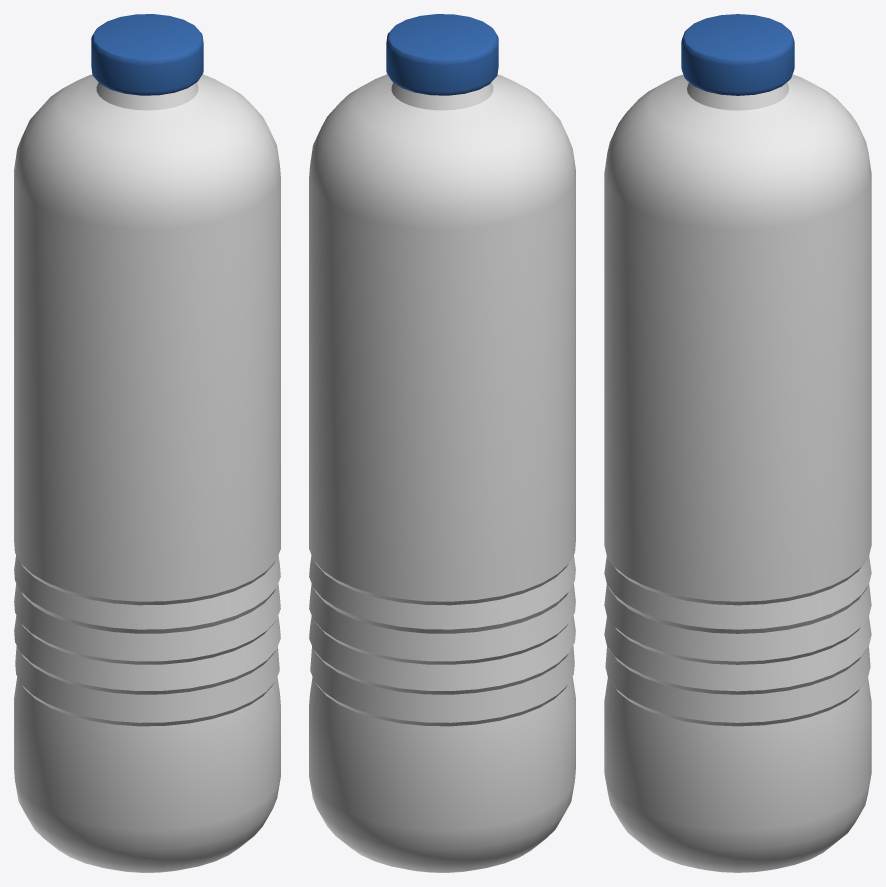
Rendered from bottle_full.fbx.
3 renders of one model, left to right at view 1: azimuth 30°, elevation 25°; view 2: azimuth 150°, elevation 25°; view 3: azimuth 270°, elevation 25°, orthographic.
Parts seen in each view (by area): view 1: water; view 2: water; view 3: water.
Boxes of the visible parts, bbox=[...] form: water: bbox=[14, 14, 280, 872]; water: bbox=[309, 14, 575, 872]; water: bbox=[604, 14, 871, 872].
Bounding box in the file's own units: 117 × 389 × 117.
